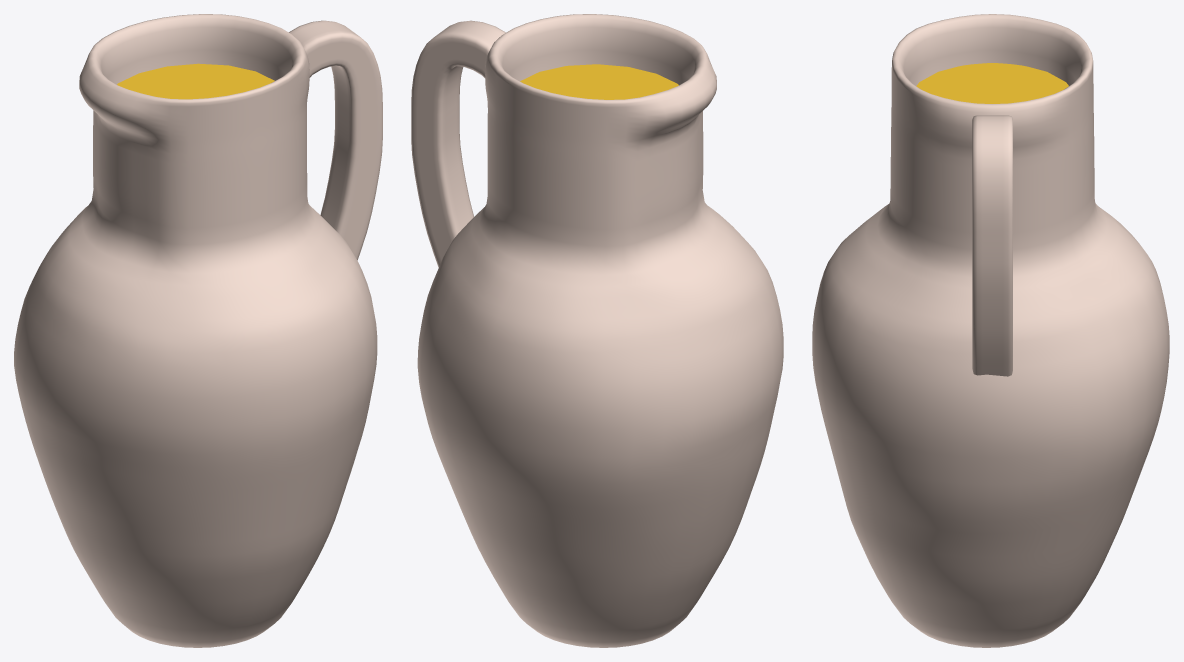
Rendered from saffron_jug.obj.
3 renders of one model, left to right at view 1: azimuth 30°, elevation 25°; view 2: azimuth 150°, elevation 25°; view 3: azimuth 270°, elevation 25°, orthographic.
Parts seen in each view (by area): view 1: Cylinder002; view 2: Cylinder002; view 3: Cylinder002.
Part boxes in pixels (x1,y1,x2,y2): Cylinder002: [14, 14, 382, 647]; Cylinder002: [411, 14, 783, 647]; Cylinder002: [812, 14, 1169, 647].
Size of the model in its own units: 21.79 by 34.82 by 19.99.
